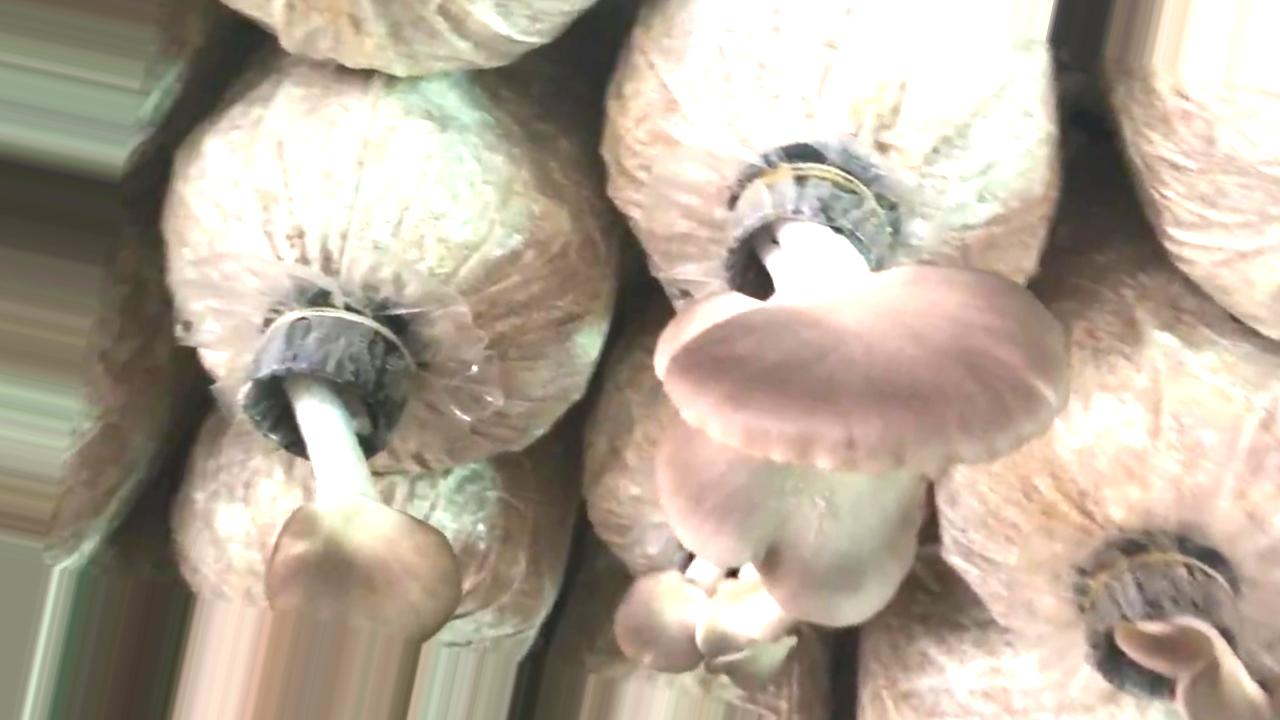nam: (616, 172, 1070, 691), (238, 312, 459, 720), (1096, 547, 1280, 718)
